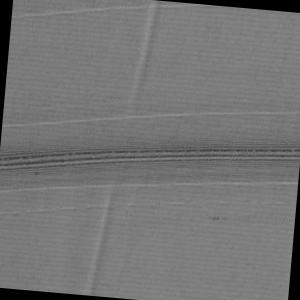Wrinkle: (81, 1, 166, 300)
